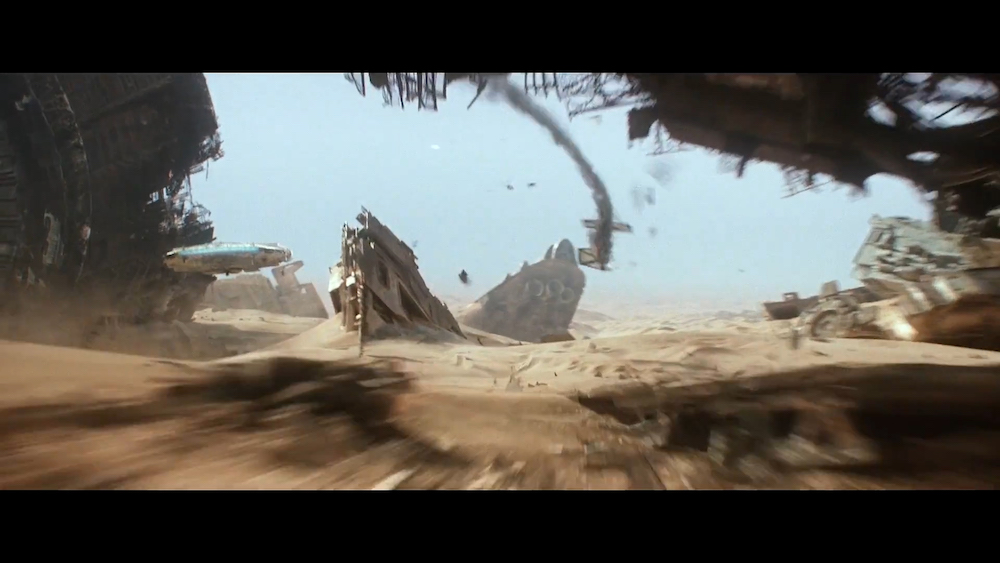Millennium Falcon: (164, 240, 295, 277)
Tie Fighter: (578, 217, 637, 275)
